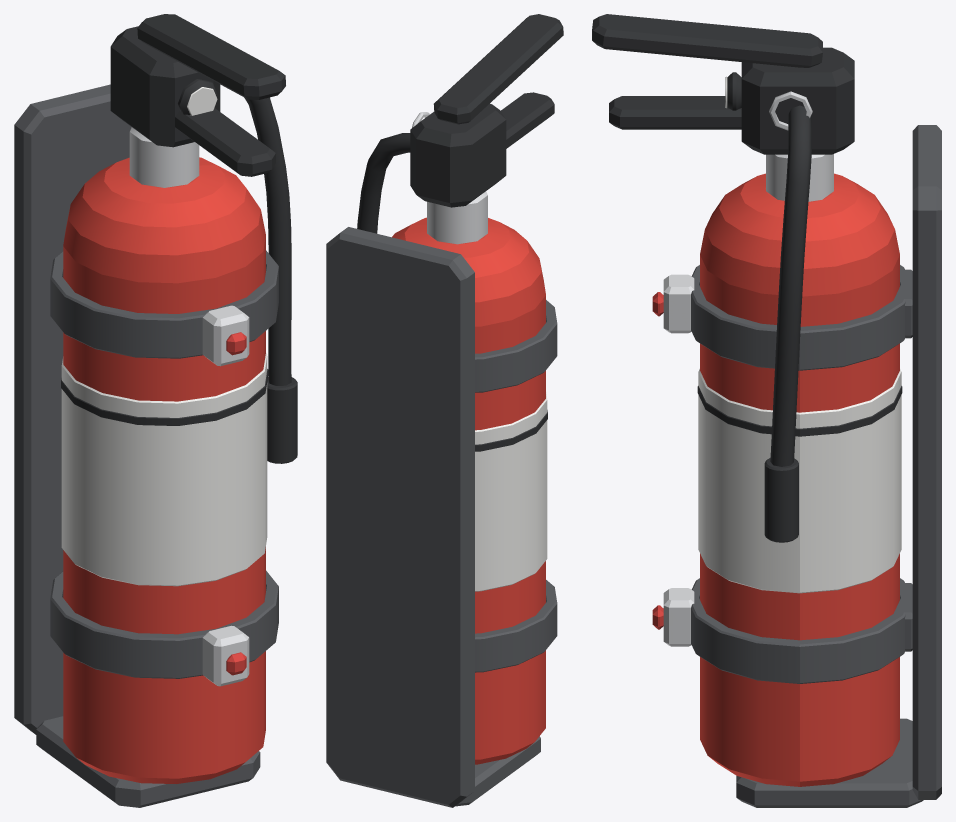
Rendered from eqm13_fire_extinguisher.glb.
The picture shows the model from 3 angles, left to right: view 1: azimuth 30°, elevation 25°; view 2: azimuth 150°, elevation 25°; view 3: azimuth 270°, elevation 25°; orthographic projection. The views are drawn at different scales.
Visible parts, largest first — view 1: eqm13_extinguisher, eqm13_wall_mount; view 2: eqm13_wall_mount, eqm13_extinguisher; view 3: eqm13_extinguisher, eqm13_wall_mount.
Boxes of the visible parts, bbox=[...] form: eqm13_extinguisher: bbox=[61, 14, 297, 783]; eqm13_wall_mount: bbox=[14, 84, 278, 807]; eqm13_wall_mount: bbox=[326, 227, 557, 807]; eqm13_extinguisher: bbox=[357, 14, 563, 764]; eqm13_extinguisher: bbox=[592, 14, 902, 786]; eqm13_wall_mount: bbox=[652, 125, 941, 807].
Bounding box in the file's own units: 0.1375 × 0.4577 × 0.1923.
